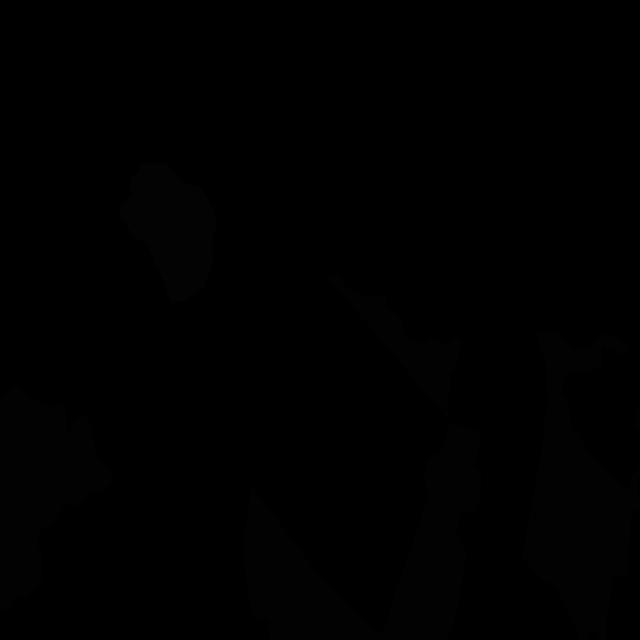cardboard: (244, 423, 483, 640), (532, 399, 640, 640), (0, 383, 114, 611), (325, 275, 462, 422), (537, 330, 631, 423), (522, 505, 554, 586), (636, 406, 640, 429)
metal: (120, 163, 217, 302)
